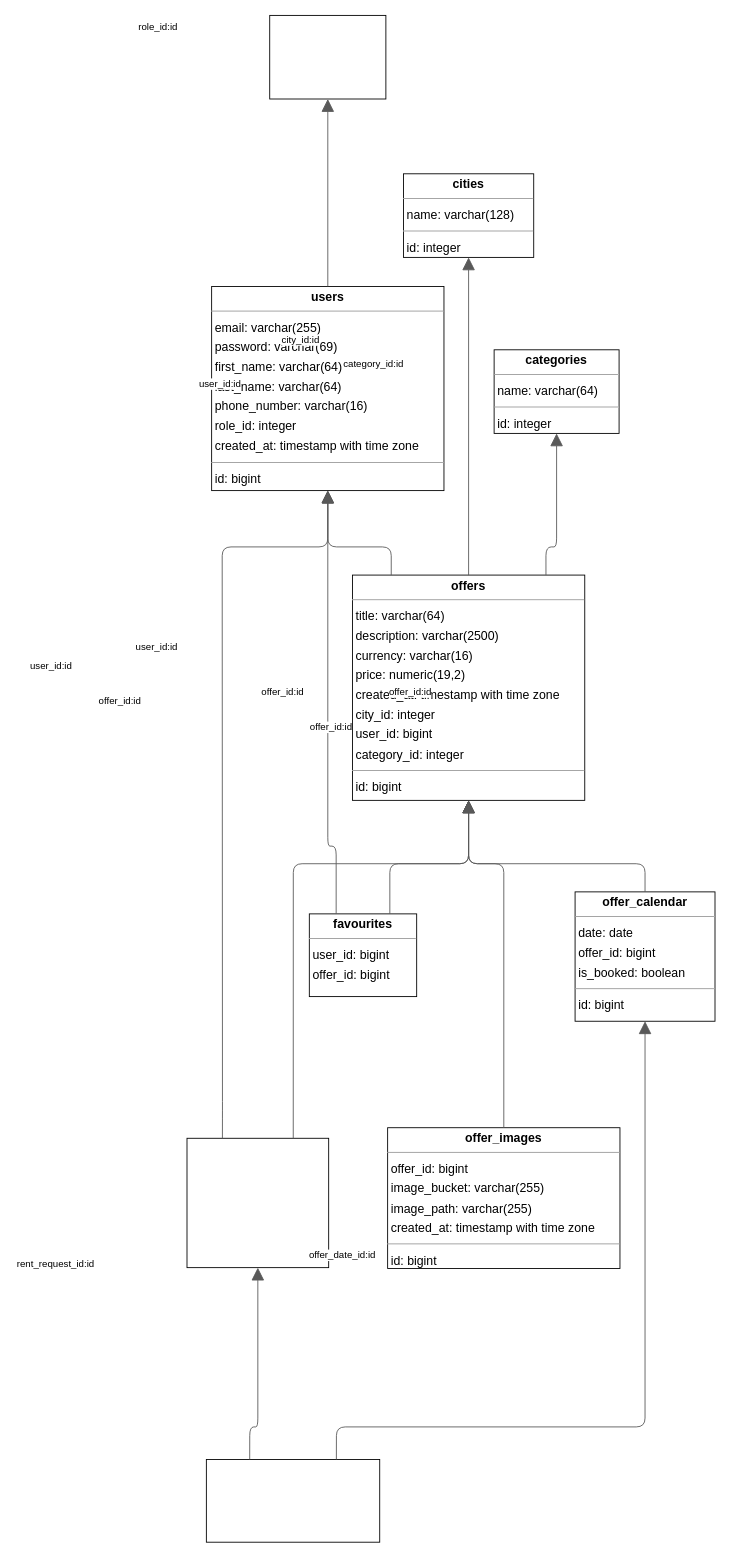
The diagram is 730 pixels wide and 1558 high, and some of its shapes have lost their labels. The centre of each missing label's shape, as x and y in pixels:
rent_request offer_id: bigint user_id: bigint is_approved: boolean id: bigint: point (257, 1202)
rent_request_dates rent_request_id: bigint offer_date_id: bigint: point (292, 1500)
roles role: varchar(64) id: integer: point (327, 57)
